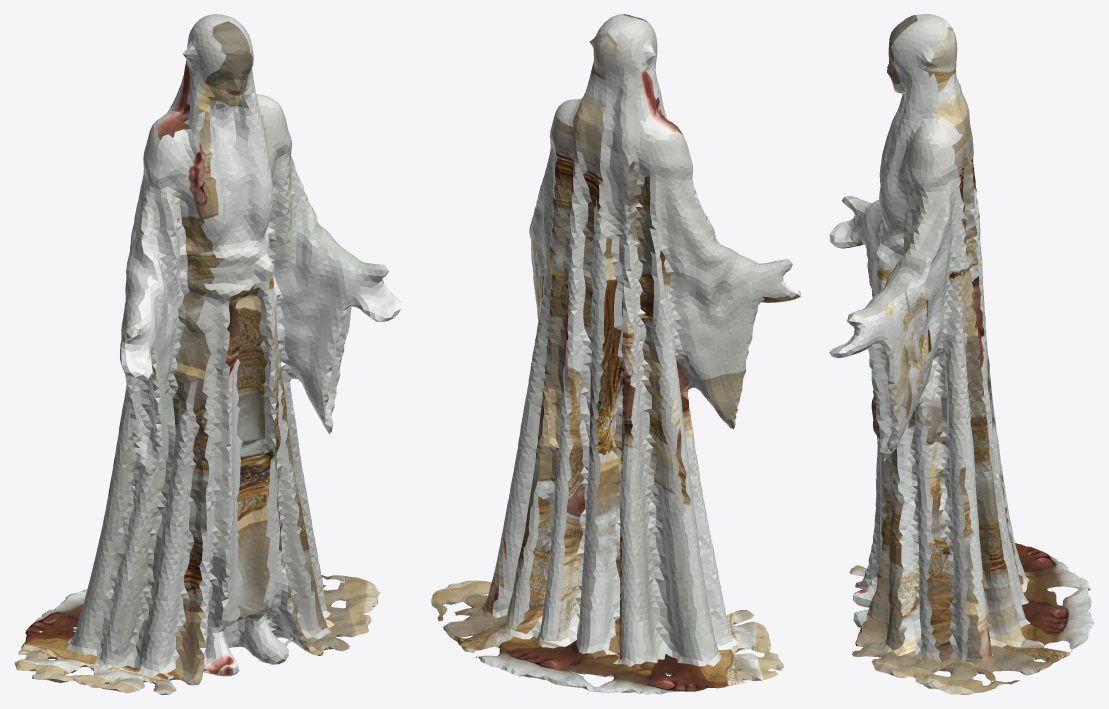
Rendered from elf_mage.glb.
The picture shows the model from 3 angles, left to right: view 1: azimuth 30°, elevation 25°; view 2: azimuth 150°, elevation 25°; view 3: azimuth 270°, elevation 25°; orthographic projection. The views are drawn at different scales.
Parts seen in each view (by area): view 1: world; view 2: world; view 3: world.
Part boxes in pixels (x1,y1,x2,y2): world: (14, 14, 402, 694); world: (431, 14, 800, 694); world: (829, 14, 1094, 694).
Bounding box in the file's own units: 1.19 × 1.99 × 0.8019.
1 material, 1 textured.
